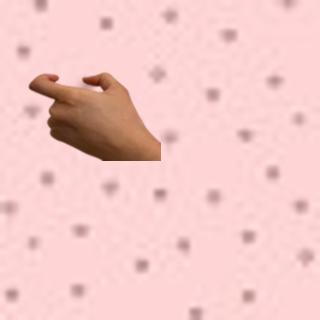HATE: (21, 69, 151, 159)
